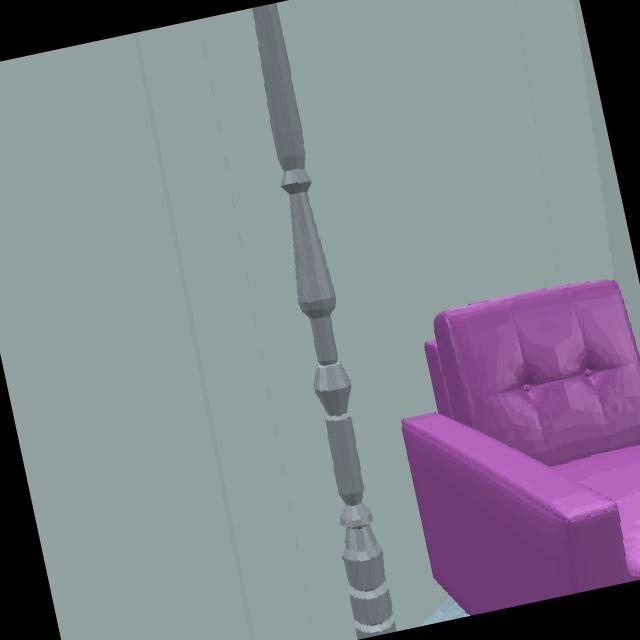sofa: (402, 279, 640, 613)
